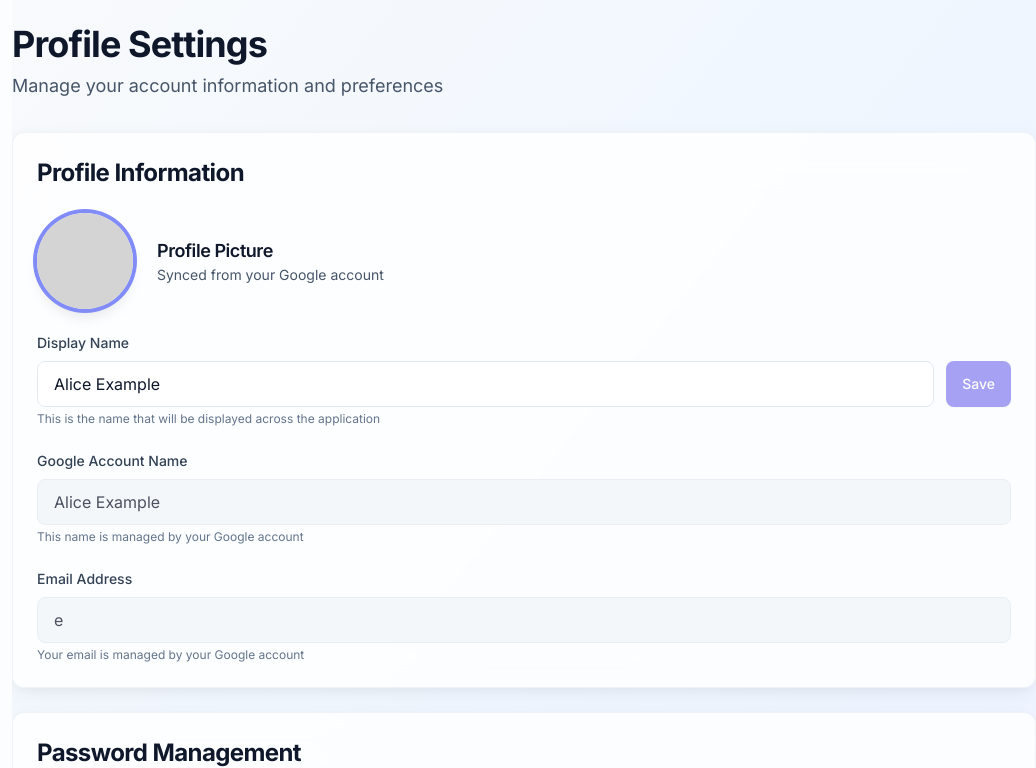
Scenario: Profile page › simulates saving display name and shows success message
Replace the text in the field labelled "Display Name" with "Alice": (486, 384) [37,361,934,407]
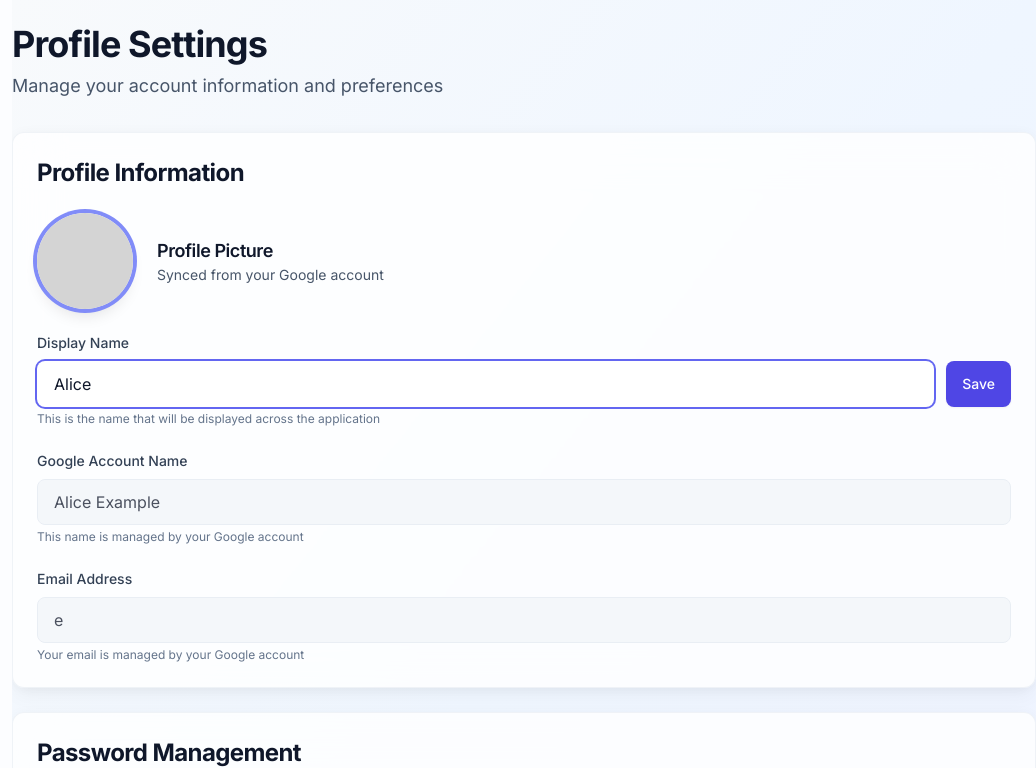
Click the button "Save": click(979, 384) [946,361,1011,407]
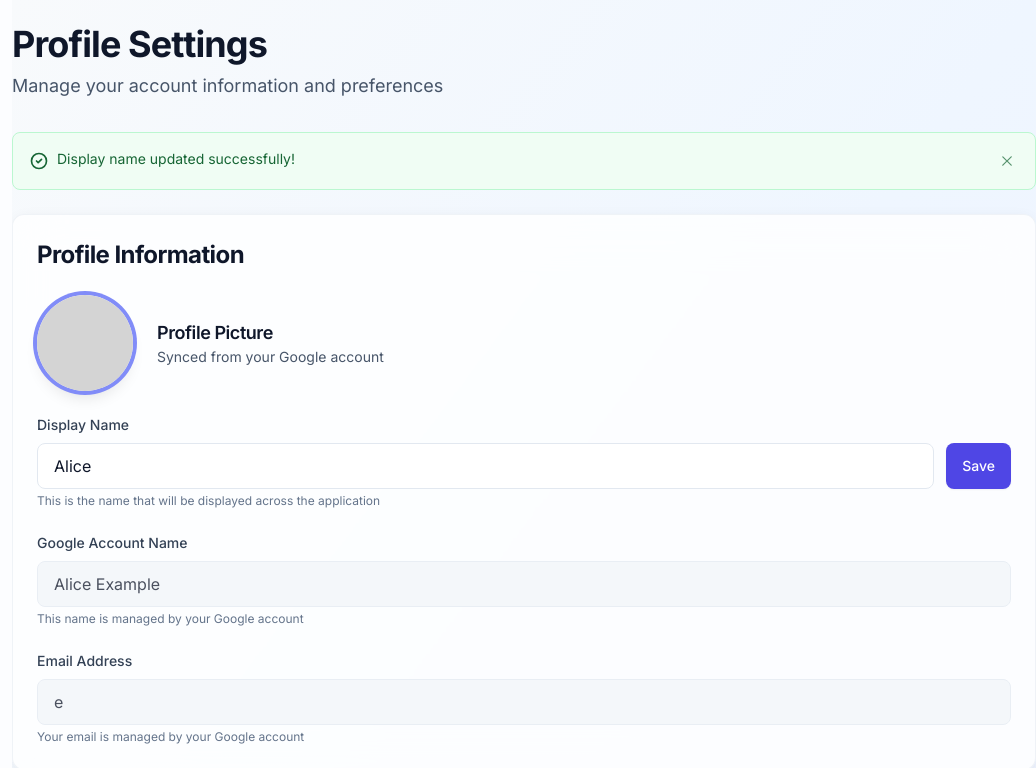
Result: the text "Display name updated successfully!" is shown at [57,150,295,167]
